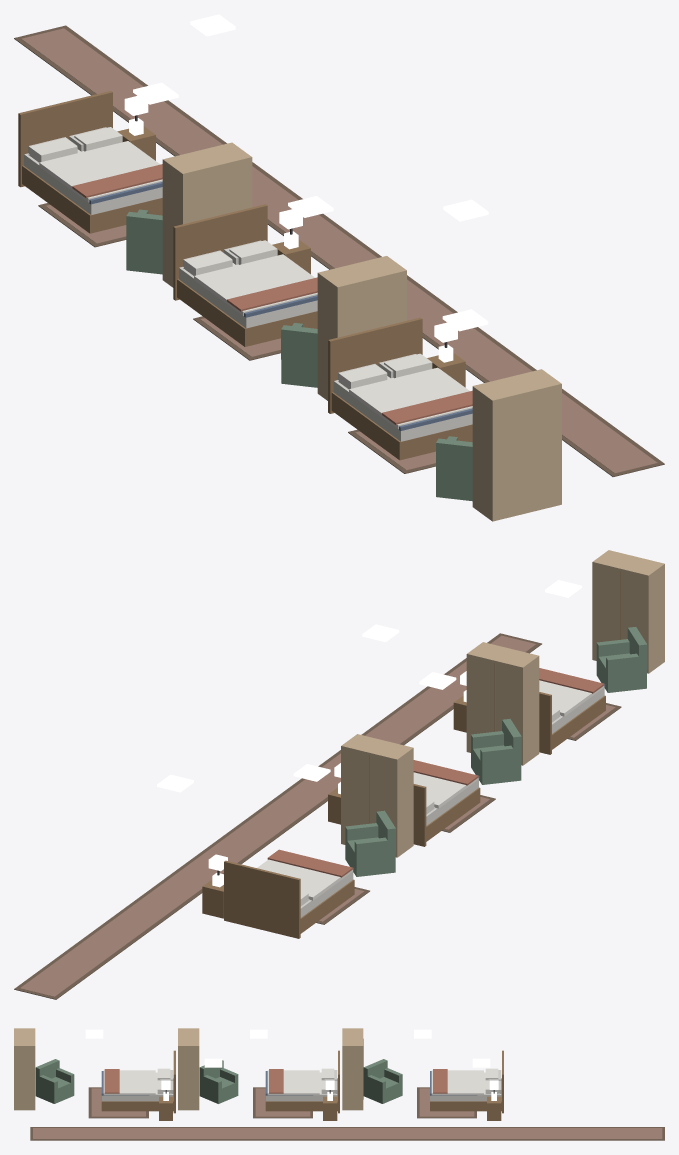
The model's file is fine-s1.glb.
The picture shows the model from 3 angles, top to bottom: view 1: azimuth 30°, elevation 25°; view 2: azimuth 150°, elevation 25°; view 3: azimuth 270°, elevation 25°; orthographic projection. The views are drawn at different scales.
Parts seen in each view (by area): view 1: soft-s1, dresser.002, bed-frame.000, bed-frame.001, bed-frame.002, dresser.000, dresser.001, lounge-chair.002, lounge-chair.000, lounge-chair.001, nightstand.002, nightstand.001 (+1 smaller); view 2: soft-s1, dresser.001, dresser.000, dresser.002, bed-frame.000, lounge-chair.002, lounge-chair.000, lounge-chair.001, bed-frame.001, bed-frame.002, nightstand.000; view 3: soft-s1, dresser.000, dresser.001, dresser.002, lounge-chair.000, lounge-chair.002, bed-frame.002, bed-frame.001, bed-frame.000, lounge-chair.001, nightstand.000, nightstand.001 (+1 smaller).
Boxes of the visible parts, x1,y1,x2,y2 form: soft-s1: (14, 25, 664, 476); dresser.002: (472, 369, 561, 521); bed-frame.000: (18, 91, 162, 233); bed-frame.001: (173, 204, 317, 346); bed-frame.002: (328, 317, 472, 460); dresser.000: (162, 142, 252, 287); dresser.001: (317, 256, 406, 400); lounge-chair.002: (436, 436, 472, 501); lounge-chair.000: (126, 209, 162, 274); lounge-chair.001: (281, 323, 317, 387); nightstand.002: (427, 344, 465, 387); nightstand.001: (272, 231, 310, 274); soft-s1: (14, 633, 621, 999); dresser.001: (466, 642, 539, 765); dresser.000: (341, 734, 413, 857); dresser.002: (592, 550, 664, 673); bed-frame.000: (224, 860, 354, 938); lounge-chair.002: (596, 627, 647, 692); lounge-chair.000: (345, 810, 395, 876); lounge-chair.001: (471, 718, 521, 784); bed-frame.001: (413, 776, 480, 846); bed-frame.002: (539, 684, 605, 754); nightstand.000: (202, 873, 223, 918); soft-s1: (30, 1068, 664, 1140); dresser.000: (342, 1028, 363, 1110); dresser.001: (178, 1028, 199, 1110); dresser.002: (14, 1028, 35, 1110); lounge-chair.000: (363, 1059, 402, 1103); lounge-chair.002: (35, 1059, 74, 1103); bed-frame.002: (101, 1050, 175, 1113); bed-frame.001: (265, 1050, 339, 1113); bed-frame.000: (430, 1050, 503, 1113); lounge-chair.001: (199, 1060, 238, 1103); nightstand.000: (487, 1092, 501, 1120); nightstand.001: (323, 1092, 337, 1120).
Size of the model in its own units: 3.55 by 2.24 by 18.41.
